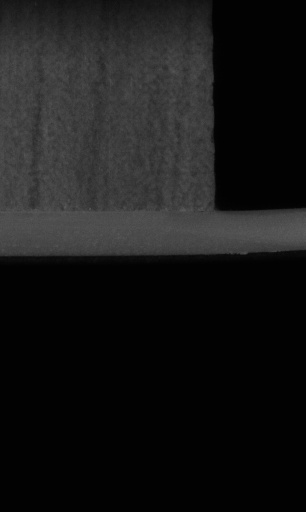changdai: (211, 208, 305, 259)
